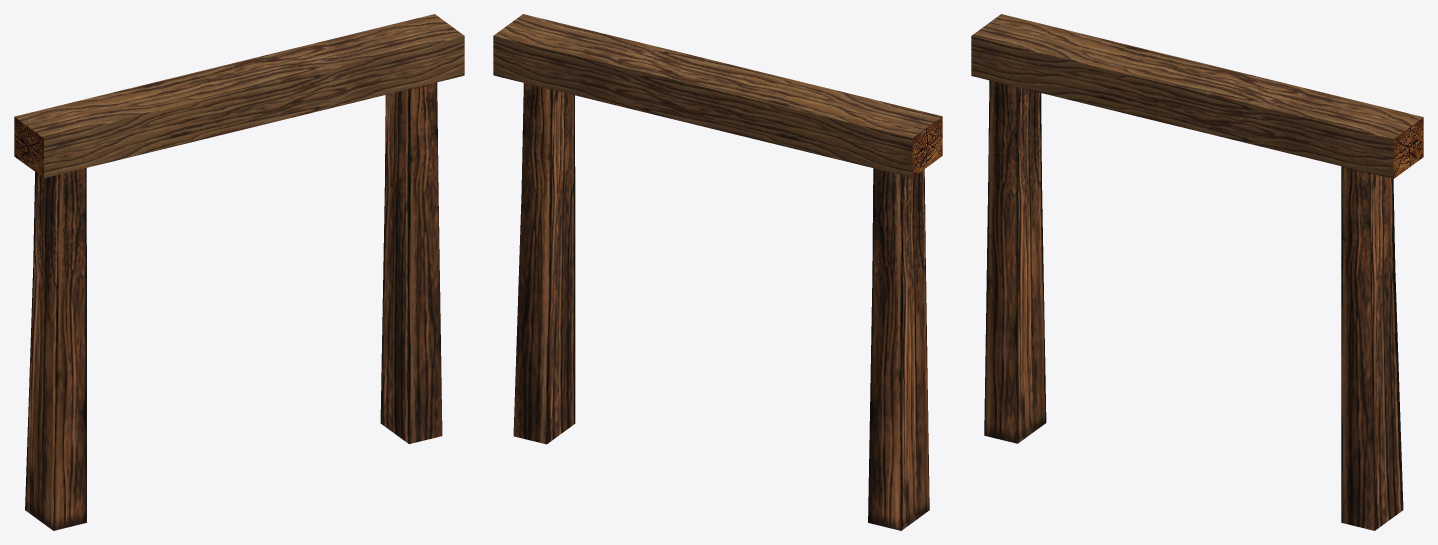
The model's file is LAKETOWN_WAREHOUSE2_PS_WH2_DOORFRAME1919__GX.fbx.
3 views of the same model, side by side, from view 1: azimuth 30°, elevation 25°; view 2: azimuth 150°, elevation 25°; view 3: azimuth 330°, elevation 25° (orthographic).
Parts seen in each view (by area): view 1: LAKETOWN_WAREHOUSE2_PS_WH2_DOORFRAME1919__GX; view 2: LAKETOWN_WAREHOUSE2_PS_WH2_DOORFRAME1919__GX; view 3: LAKETOWN_WAREHOUSE2_PS_WH2_DOORFRAME1919__GX.
Part boxes in pixels (x1,y1,x2,y2): LAKETOWN_WAREHOUSE2_PS_WH2_DOORFRAME1919__GX: (14,14,464,530); LAKETOWN_WAREHOUSE2_PS_WH2_DOORFRAME1919__GX: (493,14,942,530); LAKETOWN_WAREHOUSE2_PS_WH2_DOORFRAME1919__GX: (971,14,1423,530).
Size of the model in its own units: 32757 by 29503 by 4078.
Materials: 3 (3 with a texture image).
